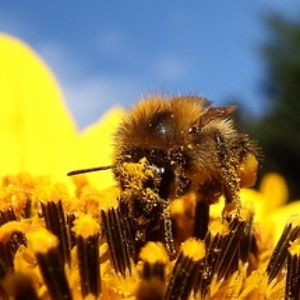bee: (114, 94, 268, 252)
